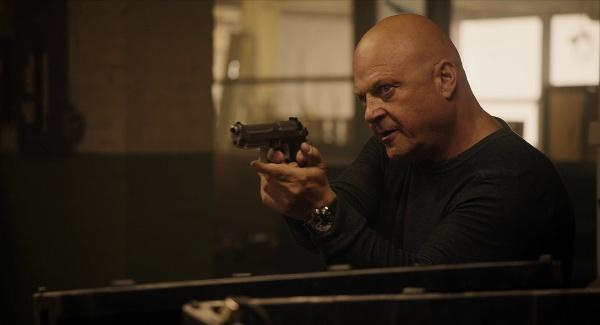Gun: (230, 117, 309, 165)
